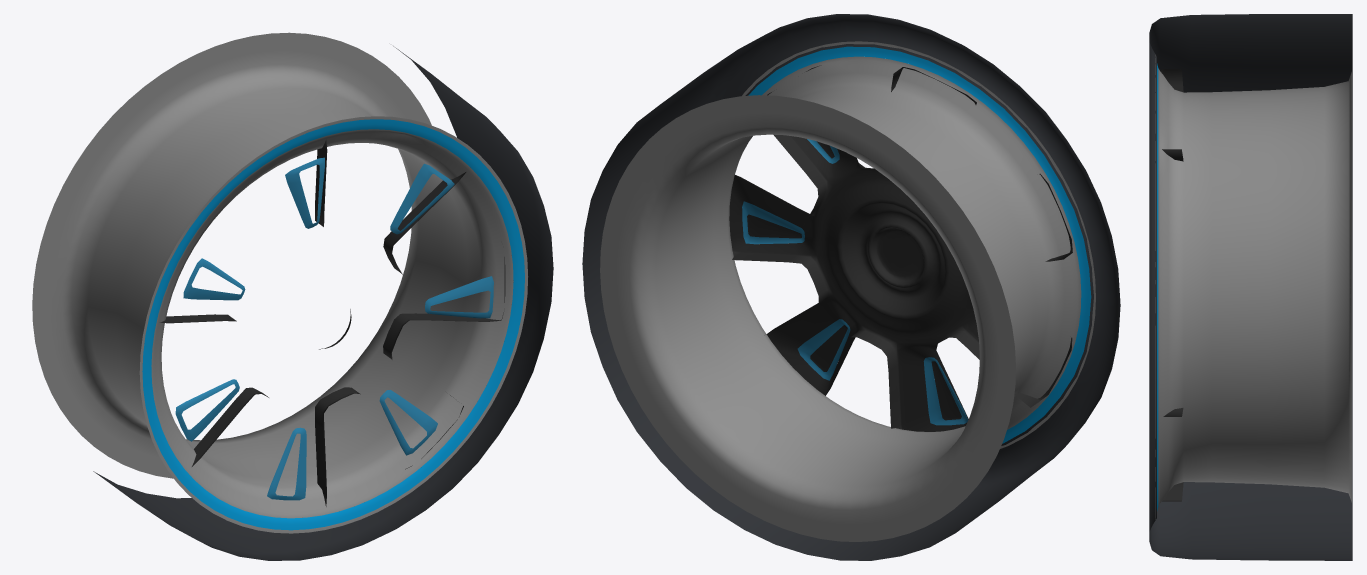
The model's file is Fcar2Tire.fbx.
The picture shows the model from 3 angles, left to right: view 1: azimuth 30°, elevation 25°; view 2: azimuth 150°, elevation 25°; view 3: azimuth 270°, elevation 25°; orthographic projection. The views are drawn at different scales.
Parts seen in each view (by area): view 1: Tire; view 2: Tire; view 3: Tire.
Part boxes in pixels (x1,y1,x2,y2): Tire: [32, 32, 553, 560]; Tire: [582, 14, 1120, 560]; Tire: [1149, 14, 1352, 560].
Bounding box in the file's own units: 73.51 × 73.55 × 27.32.
